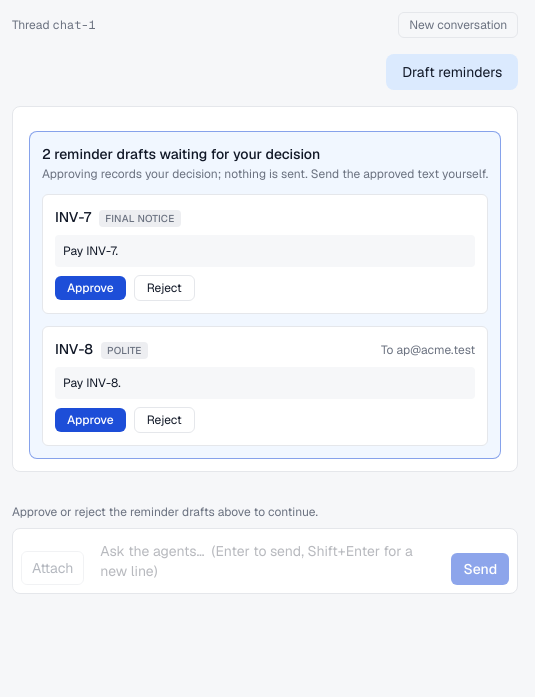
Test: Chat › asks for a decision on reminder drafts and shows what the run answered
Earlier steps of the test are not shown.
Expected: the heading "2 reminder drafts waiting for your decision" is shown, left=42, top=145, right=320, bottom=163
Expected: the text "To ap@acme.test" is shown, left=381, top=342, right=475, bottom=358
Click the button "Reject" below "Final notice".
click(164, 288)  # box left=134, top=275, right=195, bottom=301
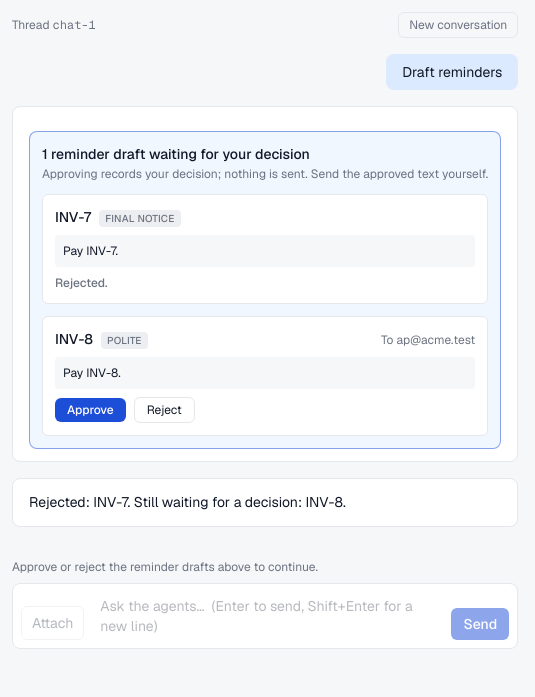
Expected: the text box named "Message" is disabled, left=92, top=592, right=443, bottom=640
Now the text "Rejected." is shown, box left=55, top=275, right=108, bottom=291
Now the text "Rejected: INV-7. Still waiting for a decision: INV-8." is shown, box left=29, top=493, right=346, bottom=511
Click the button "Approve".
click(90, 410)  # box left=55, top=398, right=126, bottom=422
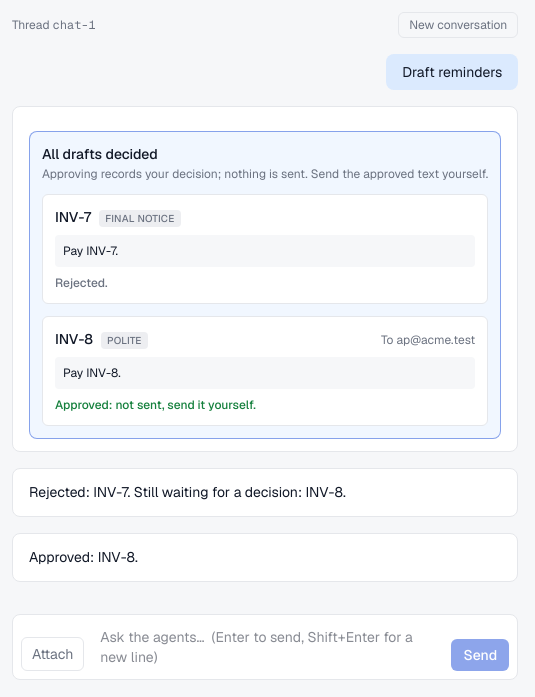
Now the text "Approved: not sent, send it yourself." is shown, box left=55, top=397, right=256, bottom=413
Now the text box named "Message" is enabled, box left=92, top=622, right=443, bottom=670
